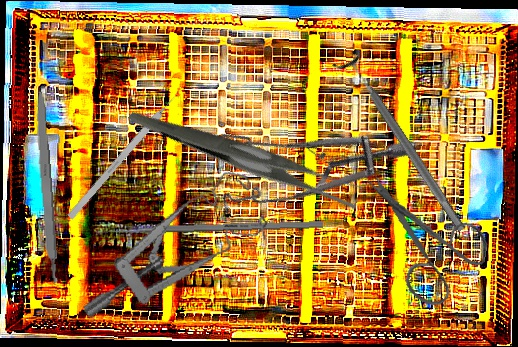Dressing Forceps: (128, 47, 368, 262)
Fixation Ring: (330, 46, 477, 240)
Hook Surgical: (66, 87, 184, 221)
Iris Scissors: (347, 171, 497, 314)
Pusher: (93, 220, 324, 236)
Scalpel Handle: (32, 87, 59, 284)
Speculum: (183, 41, 421, 263), (61, 165, 279, 321)
